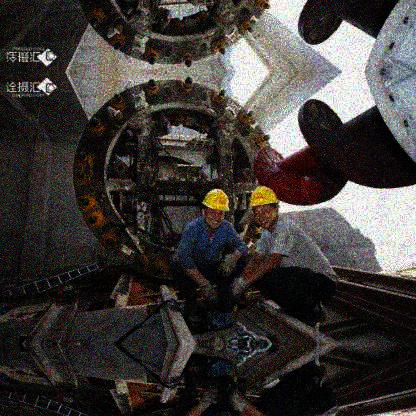helmet: (249, 186, 281, 229), (201, 189, 231, 229)
